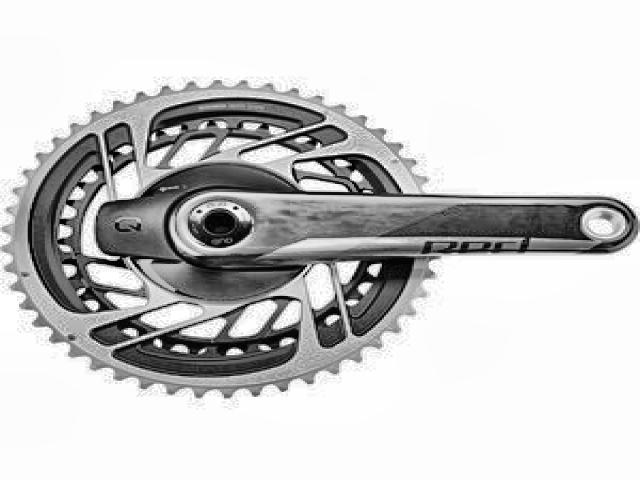cranks_set: (4, 77, 640, 404)
